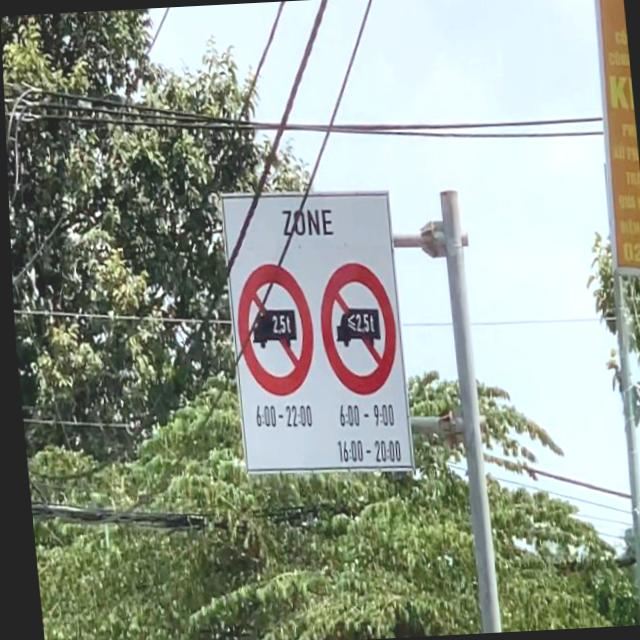Cam xe tai tren 2_5: (230, 262, 316, 399), (313, 261, 398, 398)
